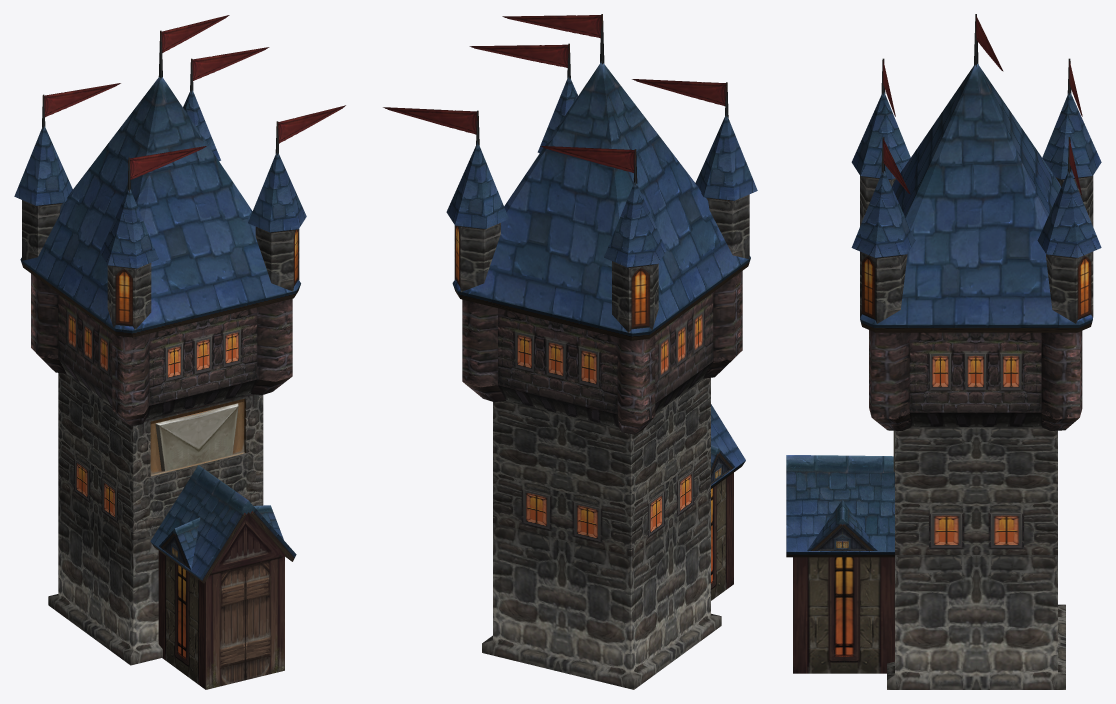
The model's file is AllianceTower_Level03.FBX.
The picture shows the model from 3 angles, left to right: view 1: azimuth 30°, elevation 25°; view 2: azimuth 150°, elevation 25°; view 3: azimuth 270°, elevation 25°; orthographic projection. The views are drawn at different scales.
Visible parts, largest first — view 1: AllianceTower_Level03, AllianceTower_Level03_C, AllianceTower_Level03_B, AllianceTower_Level03_E, AllianceTower_Level03_A, AllianceTower_Level03_D; view 2: AllianceTower_Level03, AllianceTower_Level03_A, AllianceTower_Level03_D, AllianceTower_Level03_B, AllianceTower_Level03_C, AllianceTower_Level03_E; view 3: AllianceTower_Level03.
Boxes of the visible parts, left/top/right/bottom form: AllianceTower_Level03: left=14, top=30, right=306, bottom=689; AllianceTower_Level03_C: left=192, top=47, right=269, bottom=80; AllianceTower_Level03_B: left=44, top=83, right=120, bottom=117; AllianceTower_Level03_E: left=130, top=146, right=206, bottom=179; AllianceTower_Level03_A: left=161, top=15, right=229, bottom=52; AllianceTower_Level03_D: left=278, top=105, right=345, bottom=143; AllianceTower_Level03: left=446, top=14, right=757, bottom=689; AllianceTower_Level03_A: left=502, top=15, right=601, bottom=38; AllianceTower_Level03_D: left=469, top=44, right=568, bottom=67; AllianceTower_Level03_B: left=540, top=146, right=635, bottom=172; AllianceTower_Level03_C: left=383, top=107, right=477, bottom=134; AllianceTower_Level03_E: left=632, top=79, right=726, bottom=106; AllianceTower_Level03: left=786, top=14, right=1101, bottom=689.
Bounding box in the file's own units: 469 × 1010 × 452.
